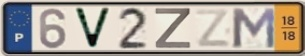2: (117, 5, 149, 51)
6: (37, 6, 68, 51)
M: (229, 6, 278, 50)
V: (71, 6, 114, 51)
Z: (153, 7, 193, 50), (193, 7, 232, 49)
